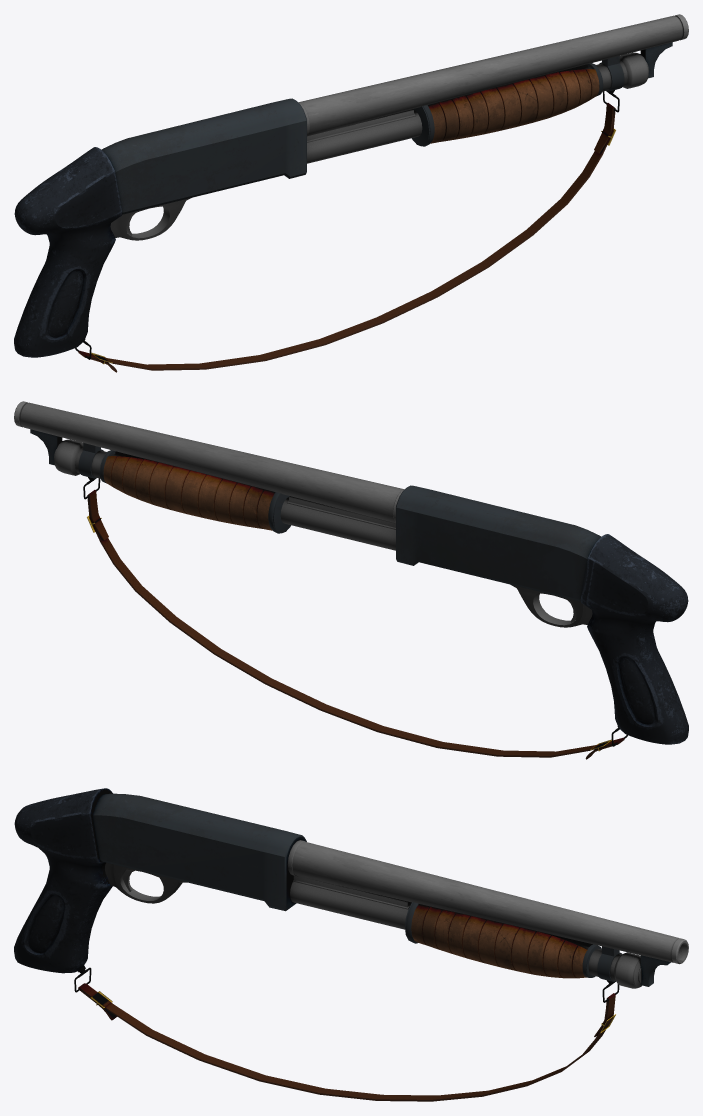
The model's file is M37_Stakeout_Sawed_Off_lo.fbx.
3 views of the same model, one above another, from view 1: azimuth 30°, elevation 25°; view 2: azimuth 150°, elevation 25°; view 3: azimuth 330°, elevation 25° (orthographic).
Visible parts, largest first — view 1: stakeout_ref; view 2: stakeout_ref; view 3: stakeout_ref.
Part boxes in pixels (<box>): stakeout_ref: <box>14,14,688,372</box>; stakeout_ref: <box>14,401,688,759</box>; stakeout_ref: <box>14,788,688,1101</box>.
Size of the model in its own units: 483 by 174 by 34.03.
Materials: 1 (1 with a texture image).
